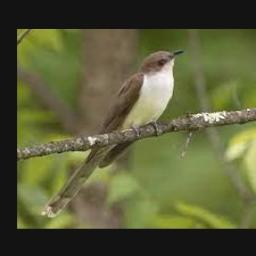Cuckoo: (41, 49, 185, 218)
